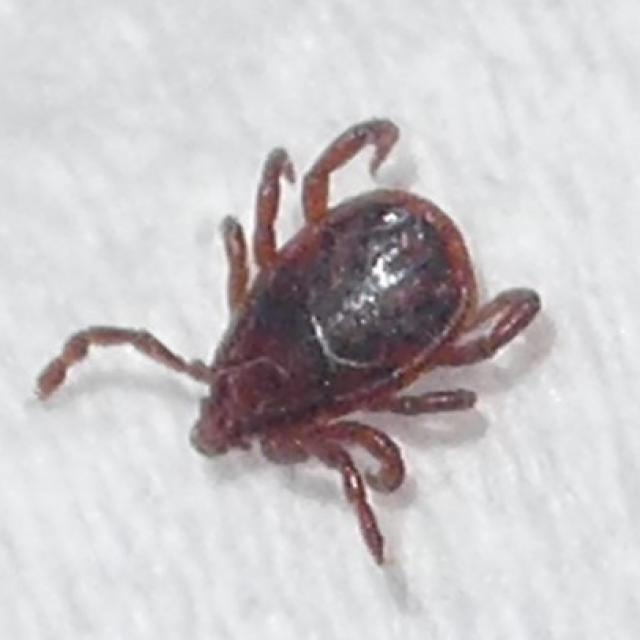Rhipicephalus Sanguineus-M: (38, 115, 544, 564)
